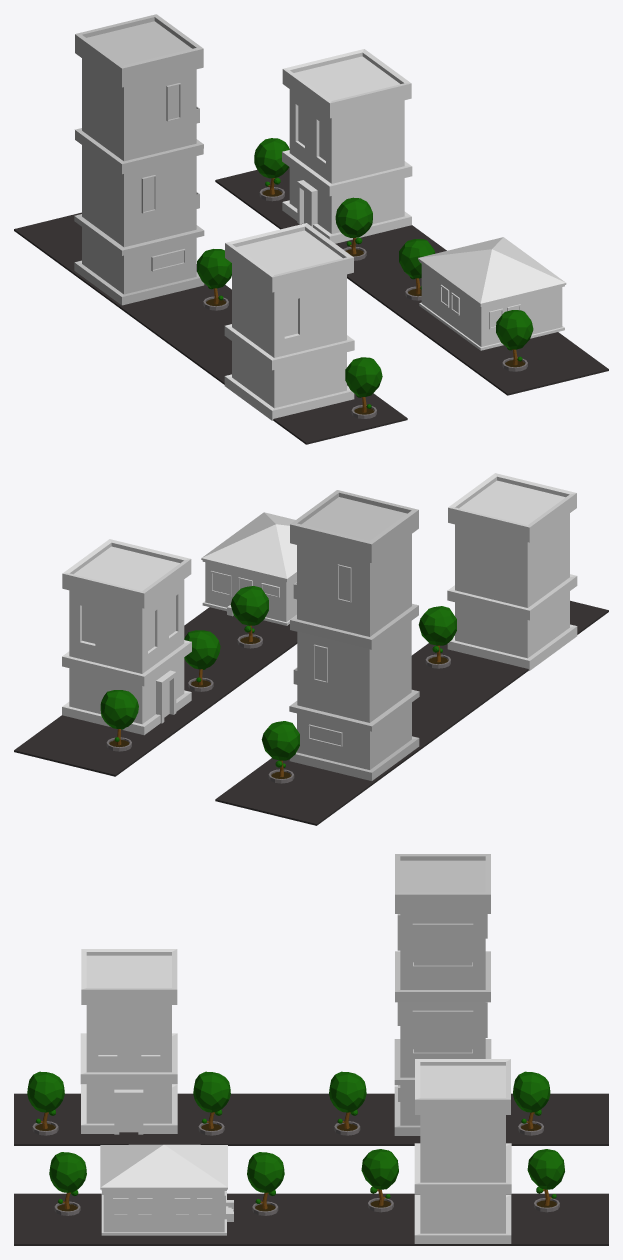
The model's file is taemplate_b_001.fbx.
3 renders of one model, top to bottom at view 1: azimuth 30°, elevation 25°; view 2: azimuth 150°, elevation 25°; view 3: azimuth 270°, elevation 25°, orthographic.
Visible parts, largest first — view 1: house.003, house.001, house.004, Cube.060, Cube.061, house.002, tree.007, tree.006, tree.004, tree.008, tree.002, tree.005; view 2: house.003, house.001, house.004, Cube.061, Cube.060, house.002, tree.003, tree.005, tree.001, tree.008, tree.007; view 3: house.003, Cube.060, Cube.061, house.001, house.004, house.002, tree.002, tree.001, tree.004, tree.005, tree.006, tree.003 (+2 smaller).
Part boxes in pixels (x1,y1,x2,y2): house.003: (74, 14, 204, 305); house.001: (224, 223, 354, 420); house.004: (282, 49, 412, 243); Cube.060: (215, 167, 608, 395); Cube.061: (14, 212, 407, 444); house.002: (418, 237, 566, 350); tree.007: (335, 197, 372, 260); tree.006: (496, 310, 533, 371); tree.004: (345, 357, 382, 418); tree.008: (254, 138, 289, 201); tree.002: (197, 249, 231, 310); tree.005: (399, 239, 435, 300); house.003: (289, 490, 419, 780); house.001: (447, 473, 577, 670); house.004: (62, 539, 191, 735); Cube.061: (215, 600, 608, 825); Cube.060: (14, 607, 297, 776); house.002: (201, 512, 296, 625); tree.003: (261, 721, 299, 783); tree.005: (230, 586, 268, 648); tree.001: (418, 606, 456, 668); tree.008: (100, 690, 138, 751); tree.007: (184, 630, 220, 691); house.003: (394, 854, 491, 1135); Cube.060: (14, 1193, 608, 1245); Cube.061: (14, 1093, 608, 1145); house.001: (80, 949, 177, 1134); house.004: (414, 1059, 511, 1243); house.002: (100, 1144, 233, 1235); tree.002: (329, 1071, 366, 1135); tree.001: (193, 1071, 230, 1135); tree.004: (27, 1071, 64, 1135); tree.005: (247, 1152, 284, 1215); tree.006: (49, 1152, 86, 1215); tree.003: (513, 1071, 550, 1135).
Size of the model in its own units: 894 by 671 by 1489.
